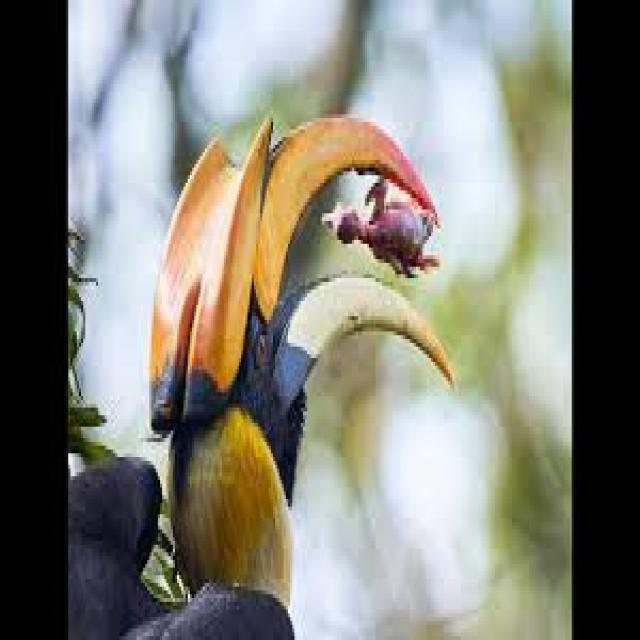Hornbill: (71, 89, 461, 640)
